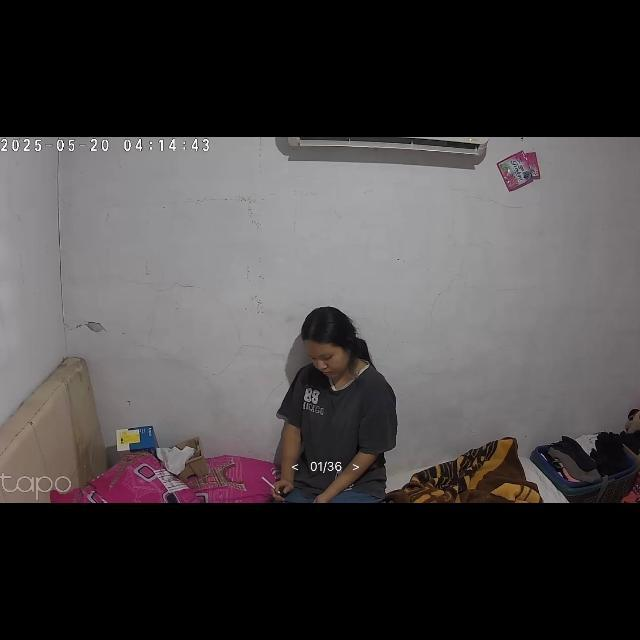rokok: (261, 474, 283, 496)
